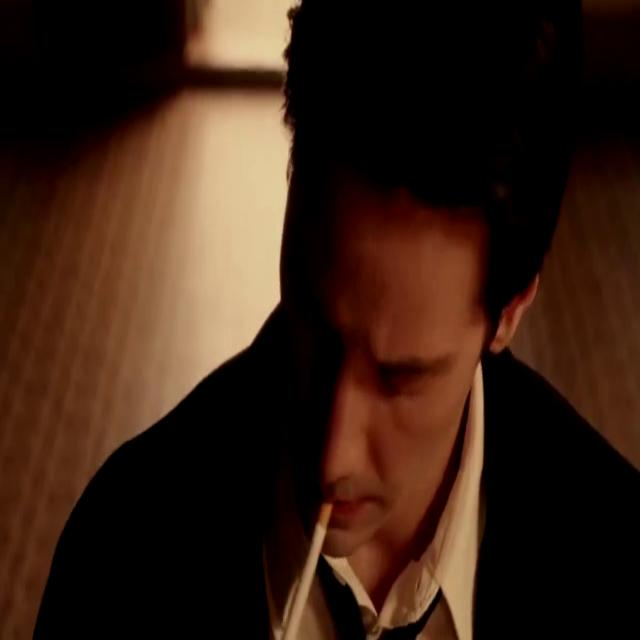Smooking: (283, 479, 337, 640)
